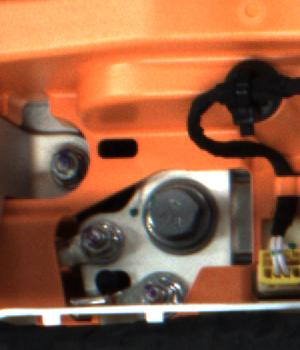nut_b: (137, 181, 207, 249)
screw_s: (81, 211, 122, 256), (49, 144, 85, 183), (139, 275, 187, 304)
